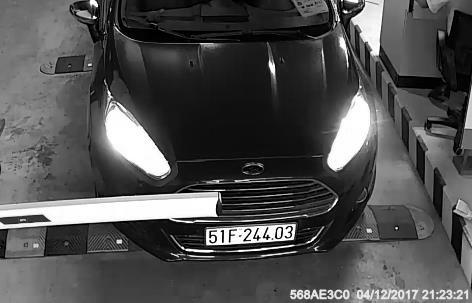License-plate: (187, 222, 313, 257)
